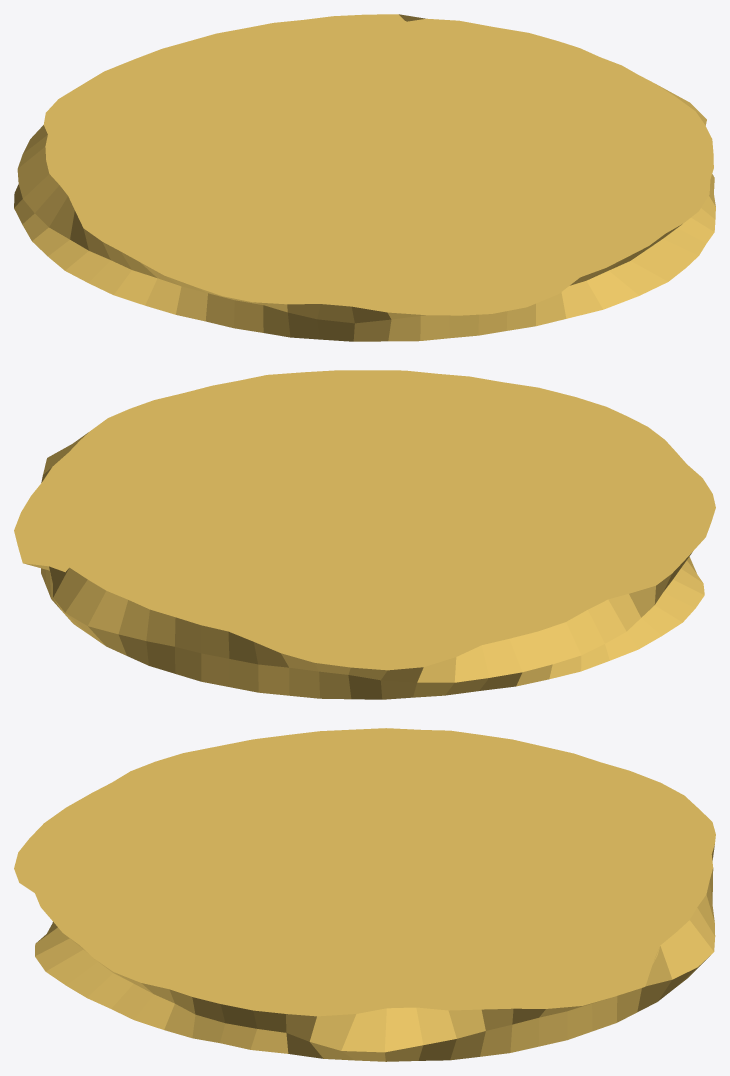
Rendered from Pempek Kulit.fbx.
3 views of the same model, one above another, from view 1: azimuth 30°, elevation 25°; view 2: azimuth 150°, elevation 25°; view 3: azimuth 270°, elevation 25° (orthographic). The views are drawn at different scales.
Visible parts, largest first — view 1: Cylinder; view 2: Cylinder; view 3: Cylinder.
Boxes of the visible parts, x1,y1,x2,y2 form: Cylinder: (14, 14, 715, 341); Cylinder: (14, 370, 715, 699); Cylinder: (14, 728, 715, 1061).
Size of the model in its own units: 227 by 19.58 by 215.
